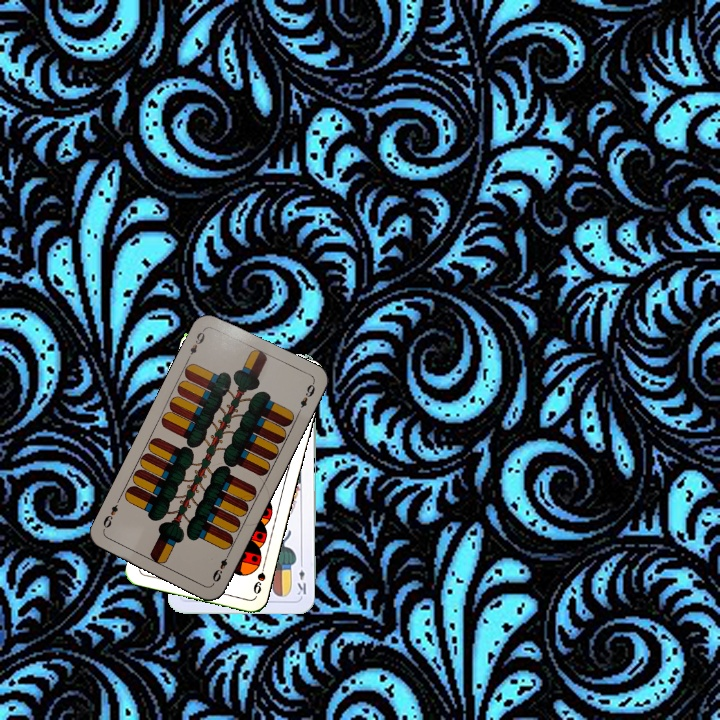E9: (208, 548, 232, 587), (183, 325, 207, 363)
EK: (294, 557, 309, 597)
S9: (249, 557, 268, 597)
